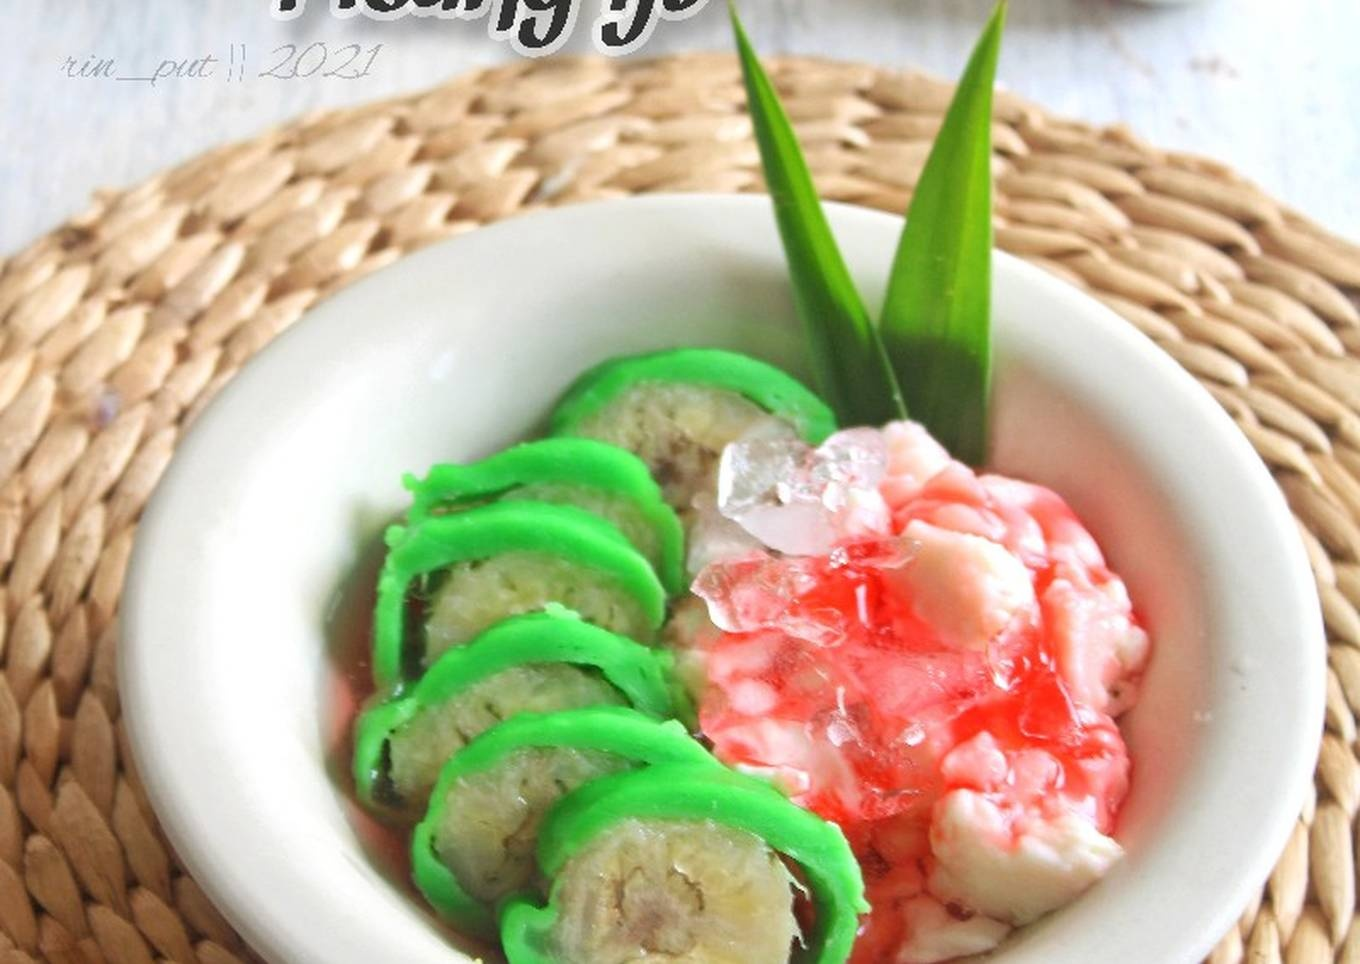es_pisang_ijo: (346, 351, 1124, 964)
